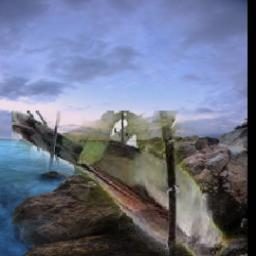Cuckoo: (12, 111, 244, 256)
